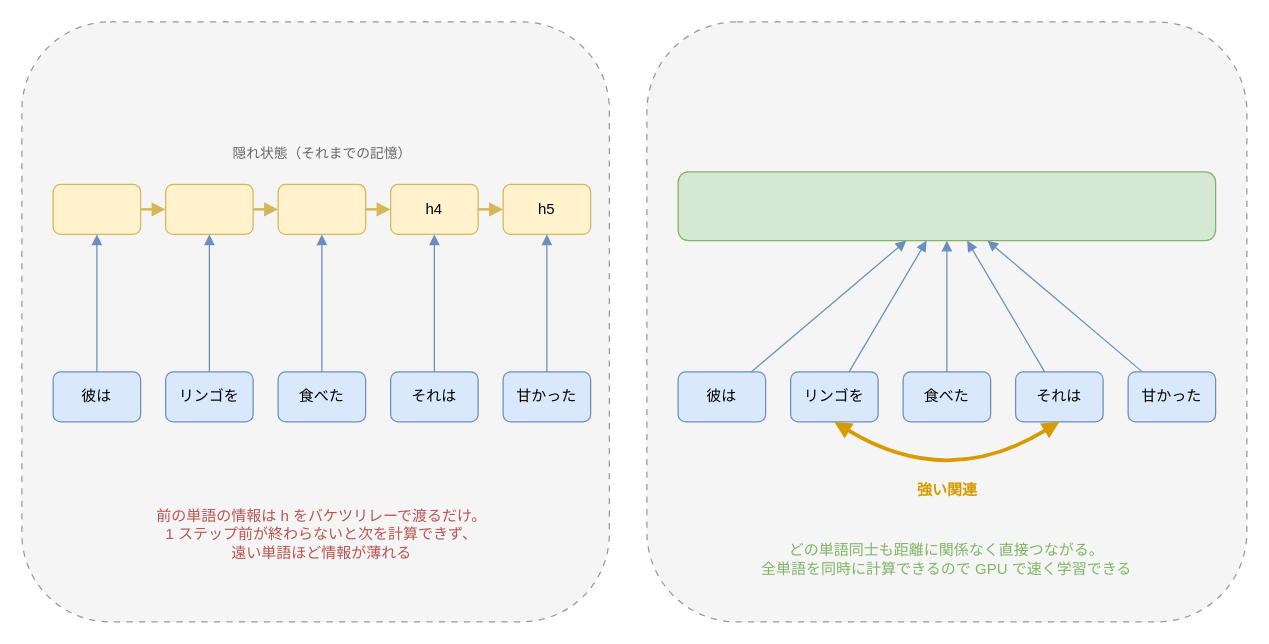
Image size: 1269x644. Some labels were removed from this diagram. Each missing label, with the box of its shape:
h1: (52, 183, 141, 234)
h2: (164, 183, 253, 234)
h3: (277, 183, 366, 234)
RNN：1 単語ずつ順番に処理（直列）: (21, 21, 609, 622)
Self-Attention （全単語のペアについて関連度を一度に計算）: (677, 171, 1216, 241)
Transformer：全単語を一斉に処理（並列）: (646, 21, 1247, 622)
